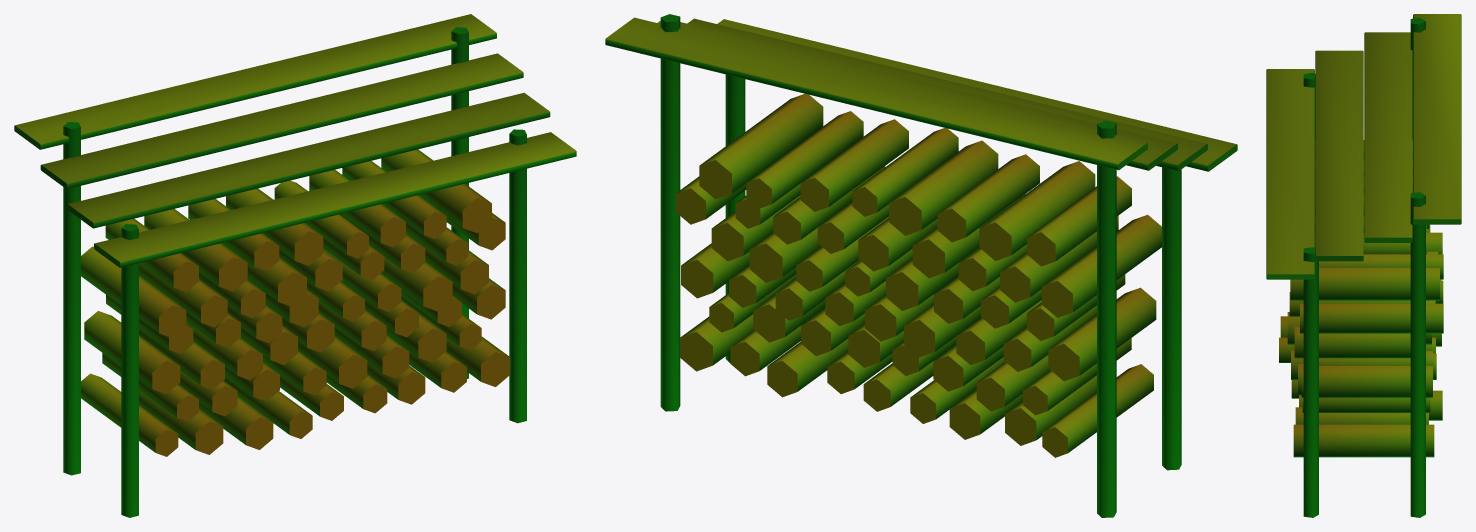
Rendered from woodpile.glb.
3 renders of one model, left to right at view 1: azimuth 30°, elevation 25°; view 2: azimuth 150°, elevation 25°; view 3: azimuth 270°, elevation 25°, orthographic. The views are drawn at different scales.
Visible parts, largest first — view 1: woodpile; view 2: woodpile; view 3: woodpile.
Boxes of the visible parts, box(x1,y1,x2,y2) form: woodpile: box(14, 14, 576, 517); woodpile: box(605, 14, 1237, 517); woodpile: box(1266, 14, 1461, 517).
Size of what is drawn, in the model's own units: 2 by 1.45 by 0.805.
